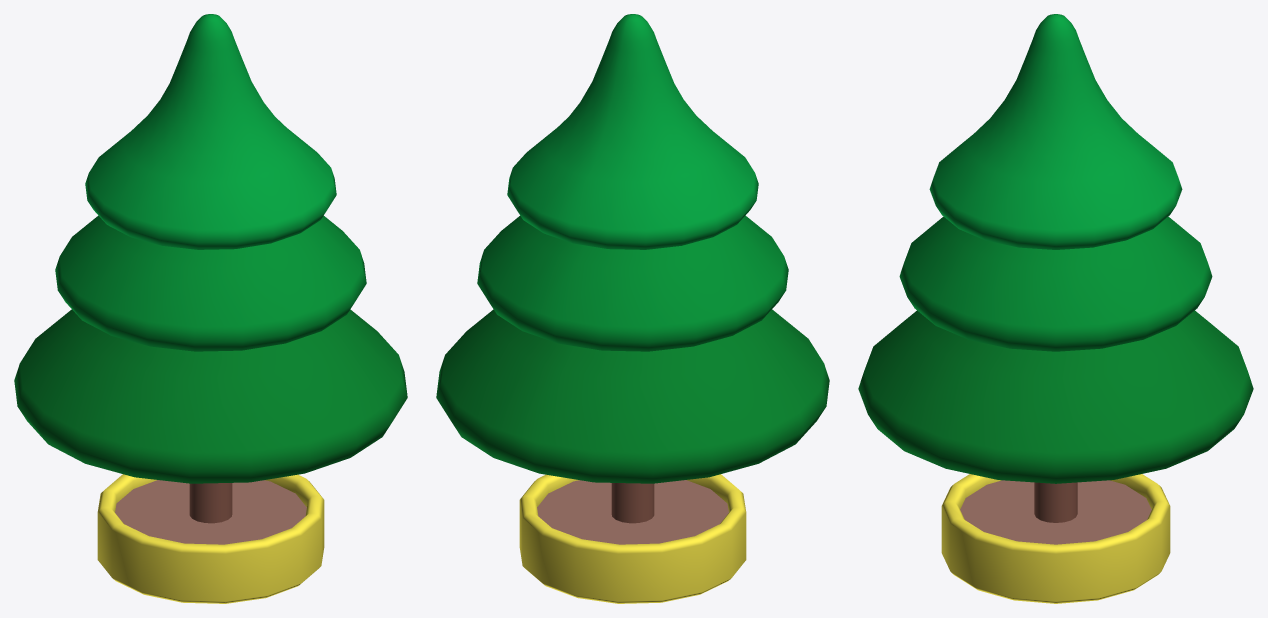
The model's file is Store_10_Tree_3.glb.
The picture shows the model from 3 angles, left to right: view 1: azimuth 30°, elevation 25°; view 2: azimuth 150°, elevation 25°; view 3: azimuth 270°, elevation 25°; orthographic projection.
Visible parts, largest first — view 1: Store_10_Tree_3; view 2: Store_10_Tree_3; view 3: Store_10_Tree_3.
Part boxes in pixels (<box>): Store_10_Tree_3: <box>14,14,407,603</box>; Store_10_Tree_3: <box>436,14,829,603</box>; Store_10_Tree_3: <box>858,14,1253,603</box>.
Size of the model in its own units: 2.63 by 3.98 by 2.63.
1 material, 1 textured.
